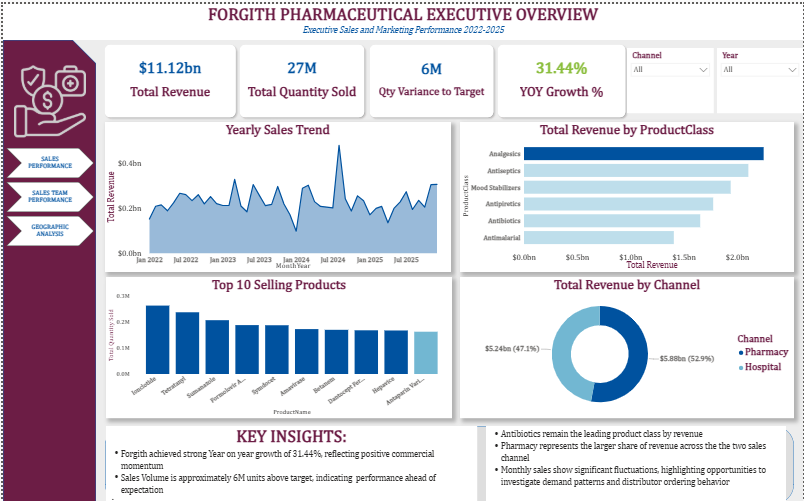

What the dashboard file says about the page in this screenshot:
{"tool":"powerbi","page":{"name":"EXECUTIVE OVERVIEW","canvas":[2000,1250],"ordinal":0},"visuals":[{"type":"textbox","box":[0,0,2000,90],"z":0},{"type":"shape","box":[0,90,232.5,1160],"z":1000},{"type":"pageNavigator","box":[7.5,360,220,245],"z":2000},{"type":"cardVisual","fields":{"Data":["MEASURES OVERVIEW.Total Revenue"]},"box":[224,72,386,240],"z":3000},{"type":"cardVisual","fields":{"Data":["MEASURES OVERVIEW.Total Quantity Sold"]},"box":[562,72,370,240],"z":4000},{"type":"cardVisual","fields":{"Data":["MEASURES OVERVIEW.YOY Growth %"]},"box":[1208,72,378,240],"z":5000},{"type":"cardVisual","fields":{"Data":["MEASURES OVERVIEW.Qty Variance to Target"]},"box":[888,72,368,240],"z":6000},{"type":"lineChart","title":"Yearly Sales Trend","fields":{"Category":["Sales Fact Table.MonthYear"],"Y":["MEASURES OVERVIEW.Total Revenue"]},"box":[255,295,865,375],"z":7000},{"type":"barChart","fields":{"Y":["MEASURES OVERVIEW.Total Revenue"],"Category":["DimProducts.ProductClass"]},"box":[1142.5,295,835,375],"z":8000},{"type":"columnChart","title":"Top 10 Selling Products","fields":{"Y":["MEASURES OVERVIEW.Total Quantity Sold"],"Category":["DimProducts.ProductName"]},"box":[257.5,682.5,865,352.5],"z":9000},{"type":"donutChart","fields":{"Y":["MEASURES OVERVIEW.Total Revenue"],"Category":["DimChannel.Channel"]},"box":[1142.5,682.5,835,352.5],"z":10000},{"type":"shape","box":[255,1055,1722.5,195],"z":11000},{"type":"textbox","box":[257.5,1055,927.5,195],"z":12000},{"type":"textbox","box":[1207.5,1055,750,195],"z":13000},{"type":"slicer","fields":{"Values":["DateTable.Year"]},"box":[1785,110,215,162.5],"z":14000},{"type":"slicer","fields":{"Values":["DimChannel.Channel"]},"box":[1560,110,217,162.5],"z":15000},{"type":"image","box":[27.5,122.5,180,242.5],"z":16000}]}

Visuals, with their boxes in screenshot pixels (x1, y1, x2, y2), scaled from the page's 2000x1250 canvas onto the 804x501 screenshot:
textbox: left=0, top=0, right=803, bottom=36
shape: left=0, top=36, right=93, bottom=500
pageNavigator: left=3, top=144, right=91, bottom=242
cardVisual - MEASURES OVERVIEW.Total Revenue: left=90, top=29, right=245, bottom=125
cardVisual - MEASURES OVERVIEW.Total Quantity Sold: left=226, top=29, right=375, bottom=125
cardVisual - MEASURES OVERVIEW.YOY Growth %: left=486, top=29, right=638, bottom=125
cardVisual - MEASURES OVERVIEW.Qty Variance to Target: left=357, top=29, right=505, bottom=125
"Yearly Sales Trend" lineChart: left=103, top=118, right=450, bottom=269
barChart - MEASURES OVERVIEW.Total Revenue x DimProducts.ProductClass: left=459, top=118, right=795, bottom=269
"Top 10 Selling Products" columnChart: left=104, top=274, right=451, bottom=415
donutChart - MEASURES OVERVIEW.Total Revenue x DimChannel.Channel: left=459, top=274, right=795, bottom=415
shape: left=103, top=423, right=795, bottom=500
textbox: left=104, top=423, right=476, bottom=500
textbox: left=485, top=423, right=787, bottom=500
slicer - DateTable.Year: left=718, top=44, right=803, bottom=109
slicer - DimChannel.Channel: left=627, top=44, right=714, bottom=109
image: left=11, top=49, right=83, bottom=146
